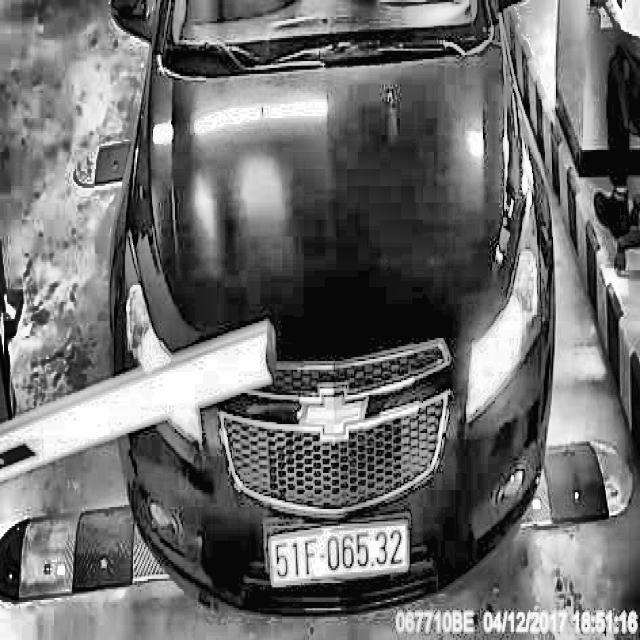plate: (267, 516, 409, 598)
